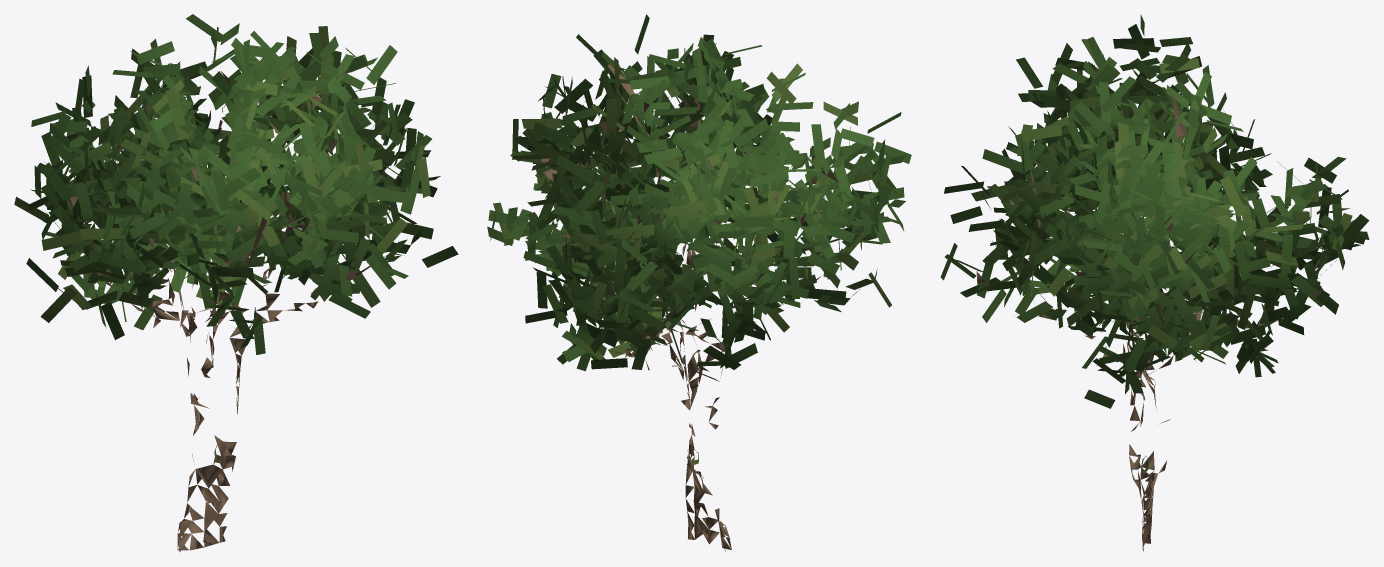
Rendered from arvore_1.glb.
The picture shows the model from 3 angles, left to right: view 1: azimuth 30°, elevation 25°; view 2: azimuth 150°, elevation 25°; view 3: azimuth 270°, elevation 25°; orthographic projection. The views are drawn at different scales.
Visible parts, largest first — view 1: arvore_1; view 2: arvore_1; view 3: arvore_1.
Boxes of the visible parts, left/top/right/bottom form: arvore_1: left=14, top=14, right=458, bottom=552; arvore_1: left=487, top=14, right=911, bottom=551; arvore_1: left=940, top=15, right=1369, bottom=551.
Bounding box in the file's own units: 2.07 × 2.51 × 1.98.
